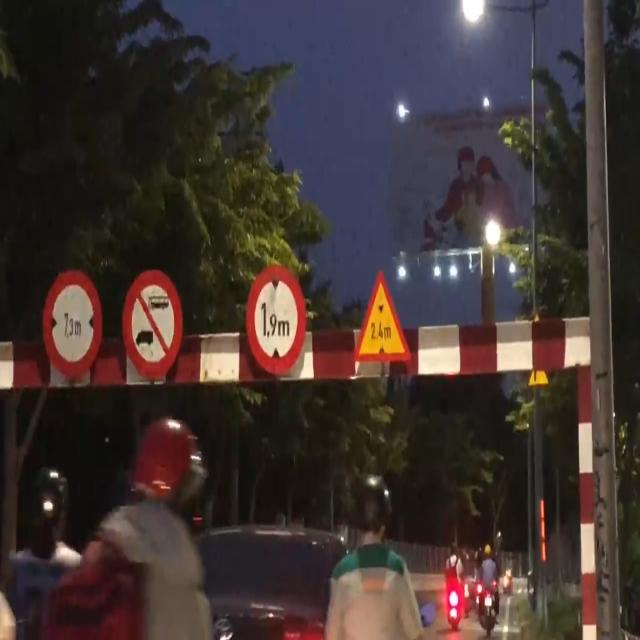Bien bao cam xe oto khach va xe oto tai: (120, 263, 182, 382)
Bien bao chieu cao tinh khong thuc te: (352, 262, 411, 366)
Bien bao han che chieu cao: (242, 259, 311, 377)
